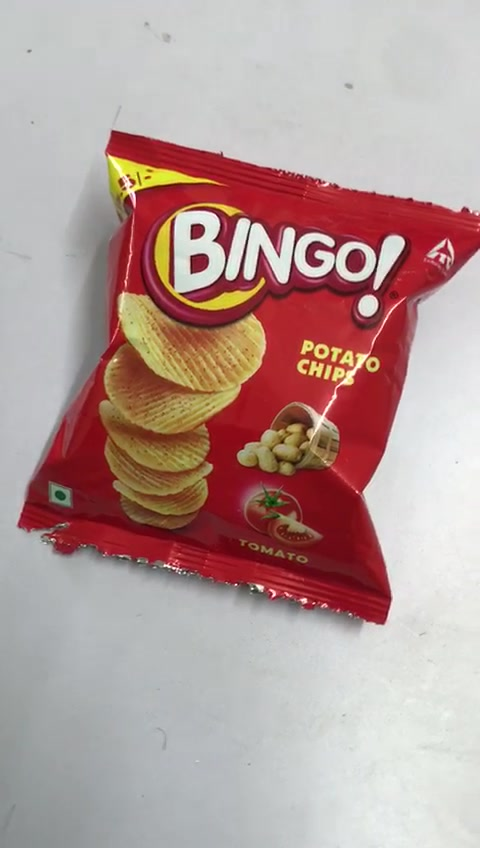bingo: (15, 124, 479, 627)
